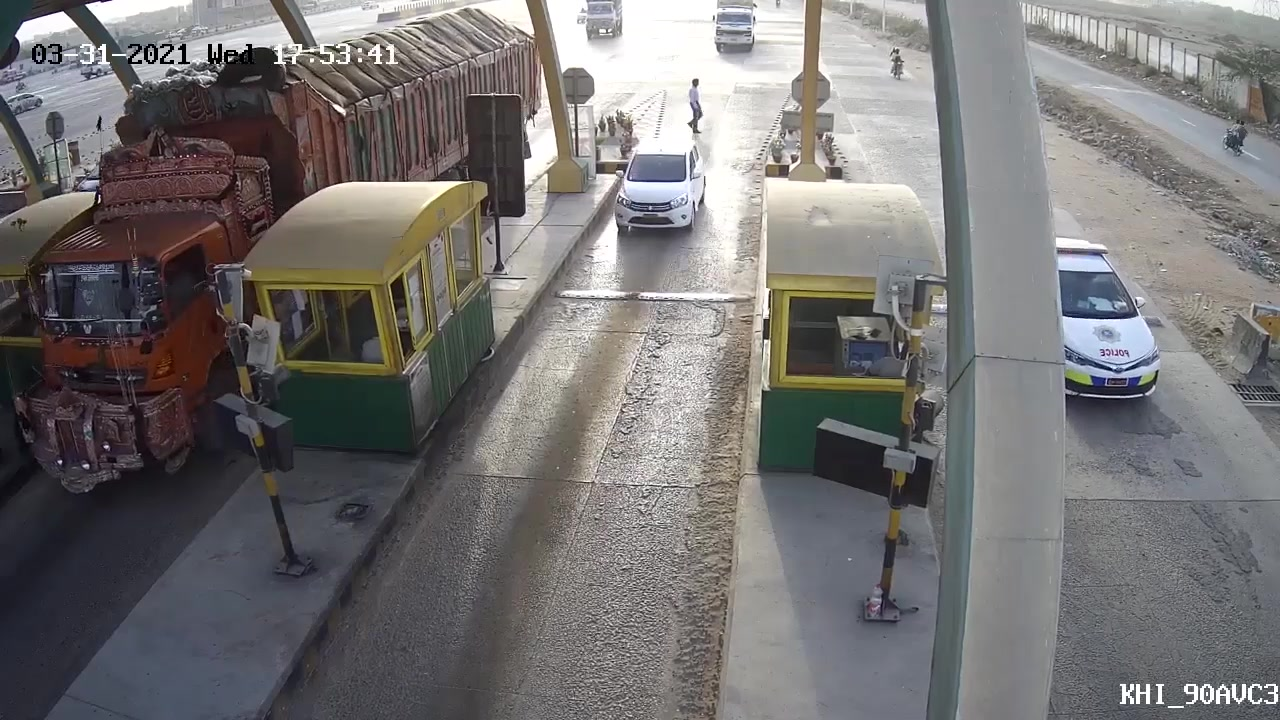F6: (589, 135, 712, 248)
